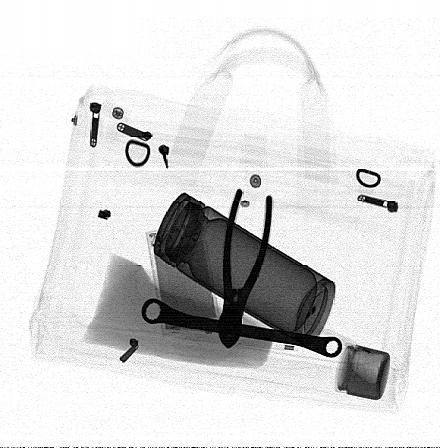Pliers: (216, 187, 274, 350)
Powerbank: (145, 225, 223, 337)
Wrench: (141, 298, 343, 360)
